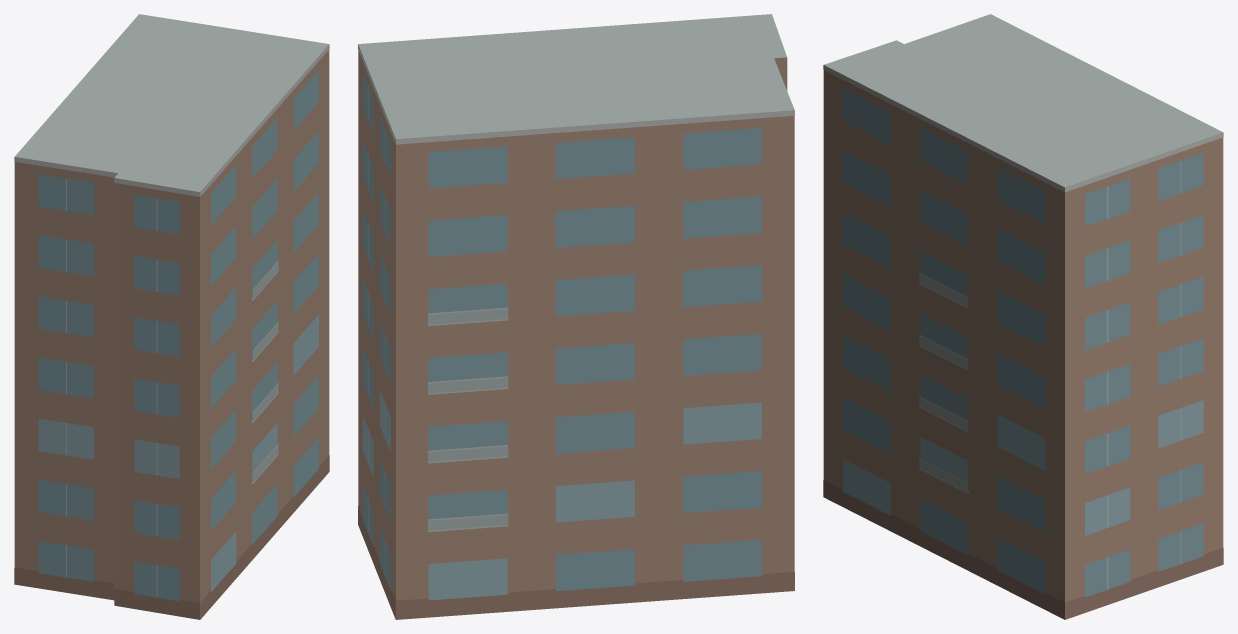
File: survey-upis-32991735.glb
3 renders of one model, left to right at view 1: azimuth 30°, elevation 25°; view 2: azimuth 150°, elevation 25°; view 3: azimuth 270°, elevation 25°, orthographic. The views are drawn at different scales.
Parts seen in each view (by area): view 1: survey-upis-32991735.tmp; view 2: survey-upis-32991735.tmp; view 3: survey-upis-32991735.tmp.
Boxes of the visible parts, <box> form: survey-upis-32991735.tmp: <box>14,14,329,619</box>; survey-upis-32991735.tmp: <box>358,14,794,619</box>; survey-upis-32991735.tmp: <box>823,14,1223,619</box>.
Bounding box in the file's own units: 18.38 × 21.35 × 17.9.
